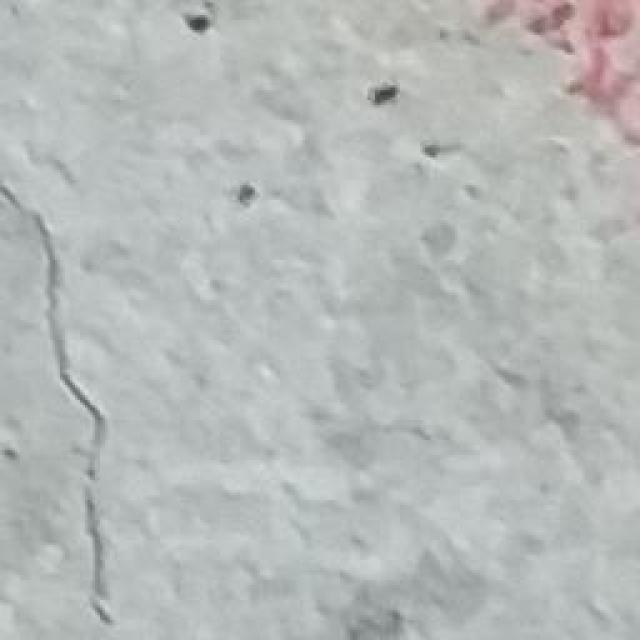Longitudinal: (0, 155, 120, 633)
